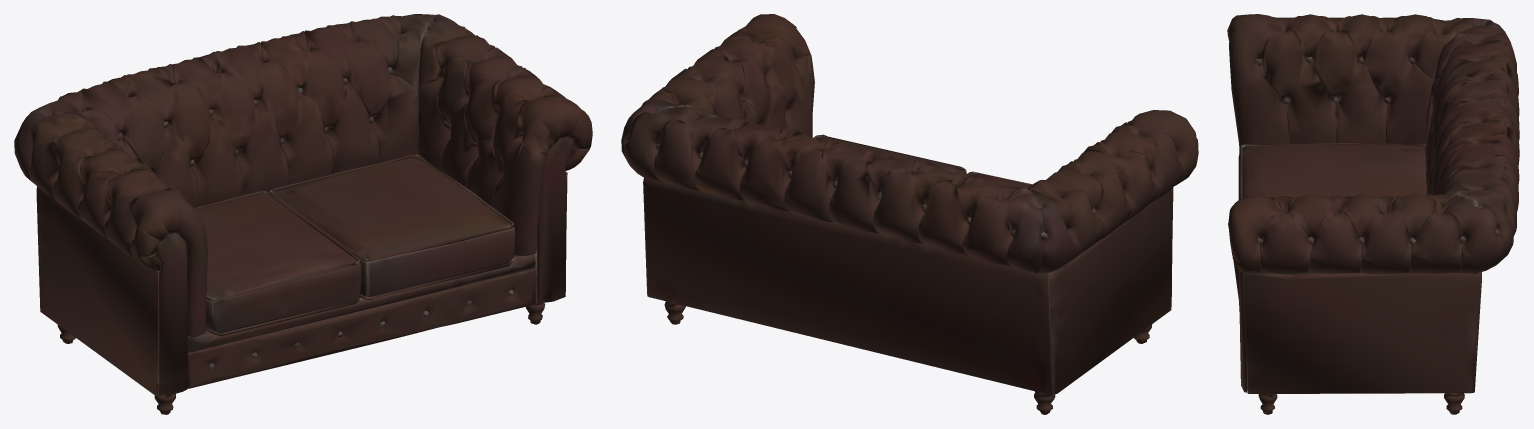
File: sofa.glb
3 renders of one model, left to right at view 1: azimuth 30°, elevation 25°; view 2: azimuth 150°, elevation 25°; view 3: azimuth 270°, elevation 25°, orthographic. The views are drawn at different scales.
Parts seen in each view (by area): view 1: sofa_geo_Leather_mat_0, legs_geo4_wood_mat_0; view 2: sofa_geo_Leather_mat_0, legs_geo4_wood_mat_0; view 3: sofa_geo_Leather_mat_0, legs_geo4_wood_mat_0.
Boxes of the visible parts, x1=… form: sofa_geo_Leather_mat_0: x1=14, y1=14, x2=592, y2=395; legs_geo4_wood_mat_0: x1=57, y1=303, x2=545, y2=414; sofa_geo_Leather_mat_0: x1=621, y1=14, x2=1198, y2=394; legs_geo4_wood_mat_0: x1=664, y1=301, x2=1152, y2=414; sofa_geo_Leather_mat_0: x1=1227, y1=14, x2=1519, y2=393; legs_geo4_wood_mat_0: x1=1258, y1=393, x2=1464, y2=414.
Size of the model in its own units: 2.12 by 1.03 by 1.23.
2 materials, 2 textured.
